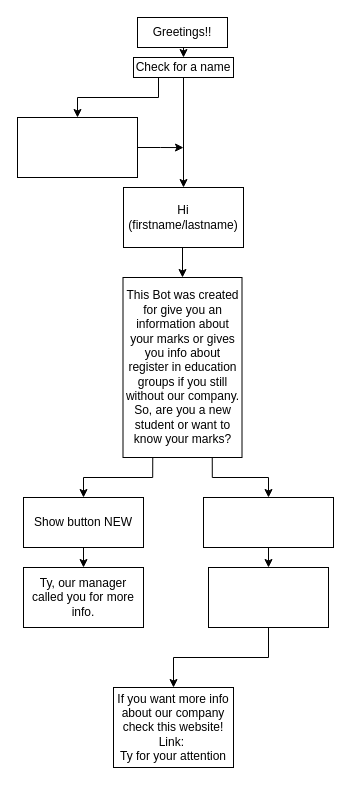
Image size: 351x785. Some labels were removed from this diagram. The shapes that lost their labels are listed below. From the top down, each one's centre as x and y in pixels, then its label:
(77,147): Hi new user!! What is your first+last name? For example: Yurij Mironovskij
(268,522): Show Button "Get My marks"
(268,597): Ok here you marks: English: Tech:
